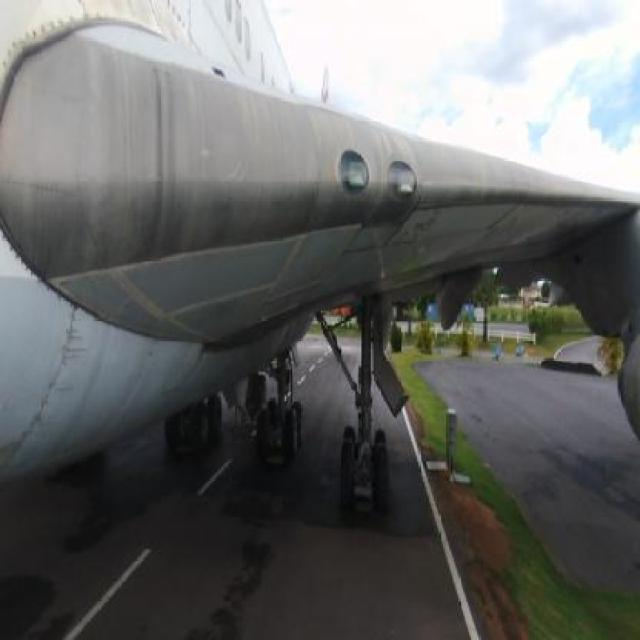Scartch: (404, 206, 447, 251)
